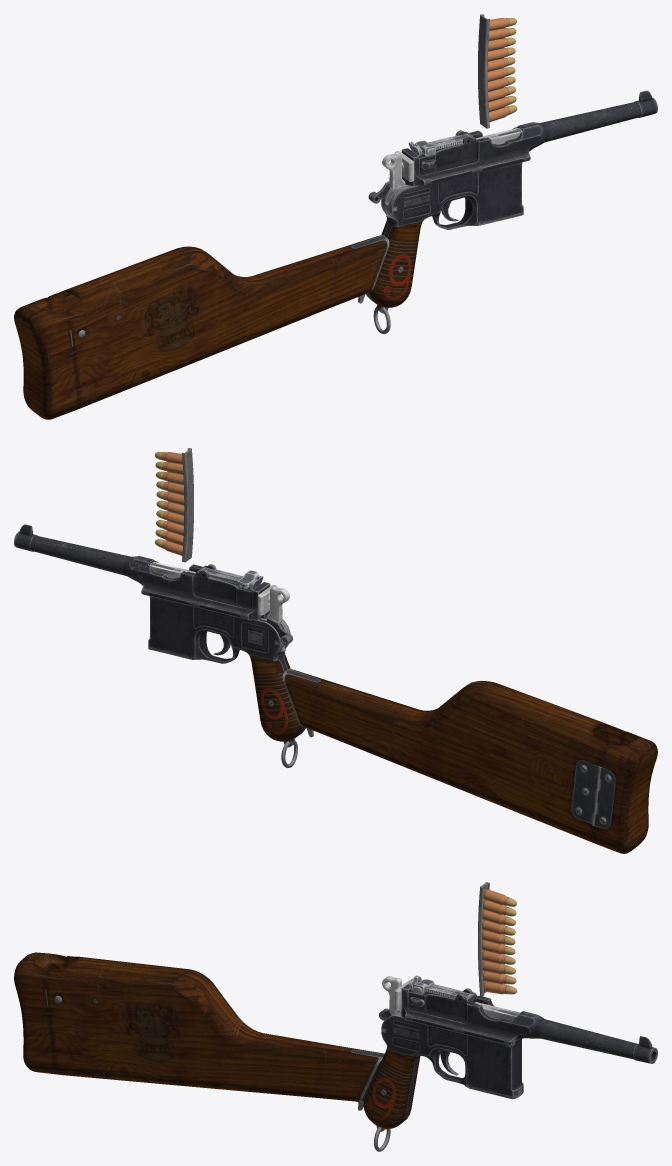
The model's file is mauser_c96_lod1.glb.
3 renders of one model, top to bottom at view 1: azimuth 30°, elevation 25°; view 2: azimuth 150°, elevation 25°; view 3: azimuth 330°, elevation 25°, orthographic.
Visible parts, largest first — view 1: Receiver_And_Body, Stripper_Clip, Bolt_Carrier, Scope_Assembly, Bolt_Handle; view 2: Receiver_And_Body, Stripper_Clip, Scope_Assembly, Bolt_Carrier; view 3: Receiver_And_Body, Stripper_Clip, Scope_Assembly, Bolt_Carrier, Bolt_Handle.
Part boxes in pixels (x1=…): Receiver_And_Body: x1=14, y1=90, x2=657, y2=419; Stripper_Clip: x1=478, y1=14, x2=517, y2=128; Bolt_Carrier: x1=395, y1=128, x2=522, y2=181; Scope_Assembly: x1=408, y1=134, x2=471, y2=155; Bolt_Handle: x1=382, y1=152, x2=406, y2=197; Receiver_And_Body: x1=14, y1=524, x2=657, y2=853; Stripper_Clip: x1=155, y1=448, x2=193, y2=562; Scope_Assembly: x1=200, y1=567, x2=263, y2=589; Bolt_Carrier: x1=150, y1=561, x2=276, y2=615; Receiver_And_Body: x1=14, y1=952, x2=657, y2=1151; Stripper_Clip: x1=478, y1=882, x2=516, y2=996; Scope_Assembly: x1=408, y1=975, x2=471, y2=998; Bolt_Carrier: x1=395, y1=980, x2=520, y2=1019; Bolt_Handle: x1=382, y1=976, x2=401, y2=1014.
Bounding box in the file's own units: 0.6849 × 0.3026 × 0.0491.
3 materials, 3 textured.
